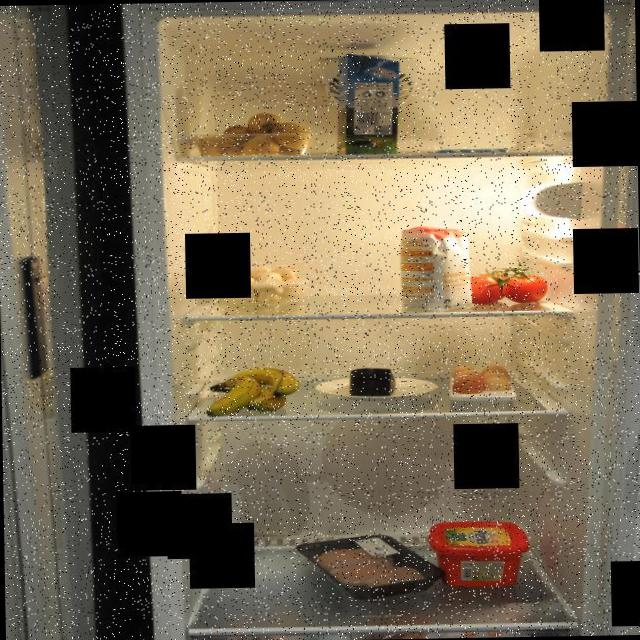Carne pollo: (296, 532, 448, 602)
Champiñones: (204, 254, 311, 308)
Huevos: (449, 362, 514, 396)
Leche: (332, 50, 402, 156)
Mantequilla: (426, 517, 531, 592)
Patata: (191, 109, 314, 158)
Plátano: (200, 364, 301, 418)
Queso: (348, 364, 396, 398)
Tomate: (464, 248, 548, 306)
chocolate: (424, 146, 508, 154)
sugar: (396, 222, 481, 313)
